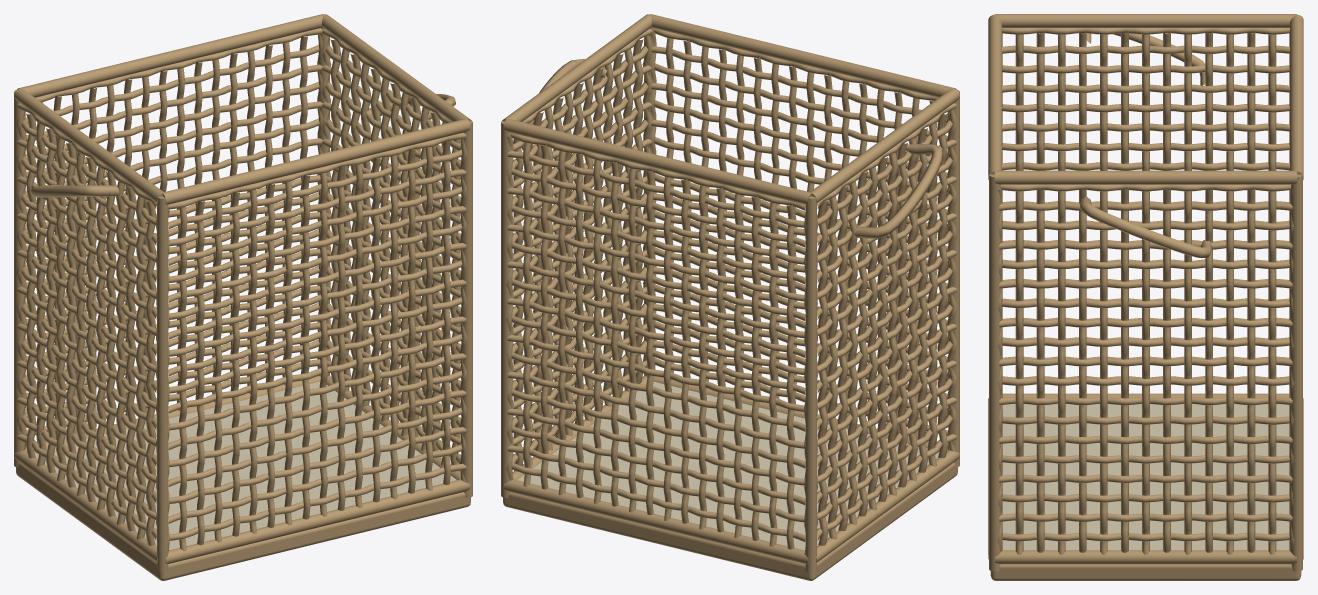
The model's file is bath-woven-hamper.glb.
The picture shows the model from 3 angles, left to right: view 1: azimuth 30°, elevation 25°; view 2: azimuth 150°, elevation 25°; view 3: azimuth 270°, elevation 25°; orthographic projection. The views are drawn at different scales.
Visible parts, largest first — view 1: cane_surfaces, linen_surfaces; view 2: cane_surfaces, linen_surfaces; view 3: cane_surfaces, linen_surfaces.
Boxes of the visible parts, bbox=[...] form: cane_surfaces: bbox=[14, 14, 472, 580]; linen_surfaces: bbox=[34, 381, 456, 550]; cane_surfaces: bbox=[501, 14, 959, 580]; linen_surfaces: bbox=[517, 381, 939, 550]; cane_surfaces: bbox=[988, 14, 1303, 580]; linen_surfaces: bbox=[1002, 403, 1289, 550].
Size of the model in its own units: 0.544 by 0.521 by 0.364.
